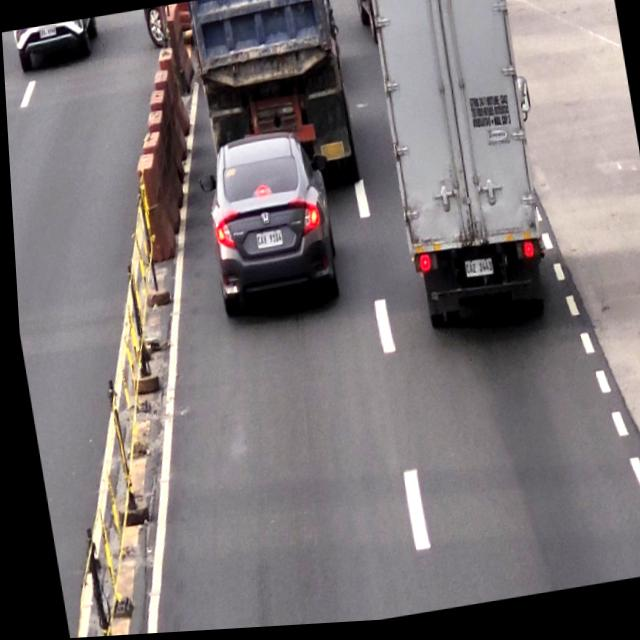Car: (194, 132, 336, 324)
License-Plate: (459, 260, 491, 287), (251, 232, 279, 252)
Truck: (365, 0, 556, 335)
